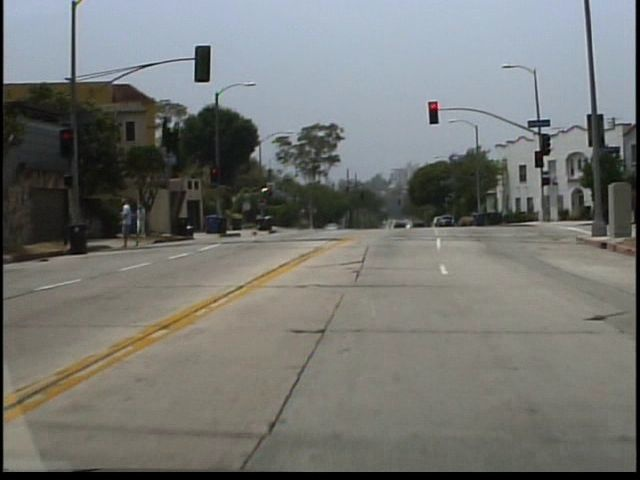person: (120, 194, 142, 246), (142, 200, 151, 243)
